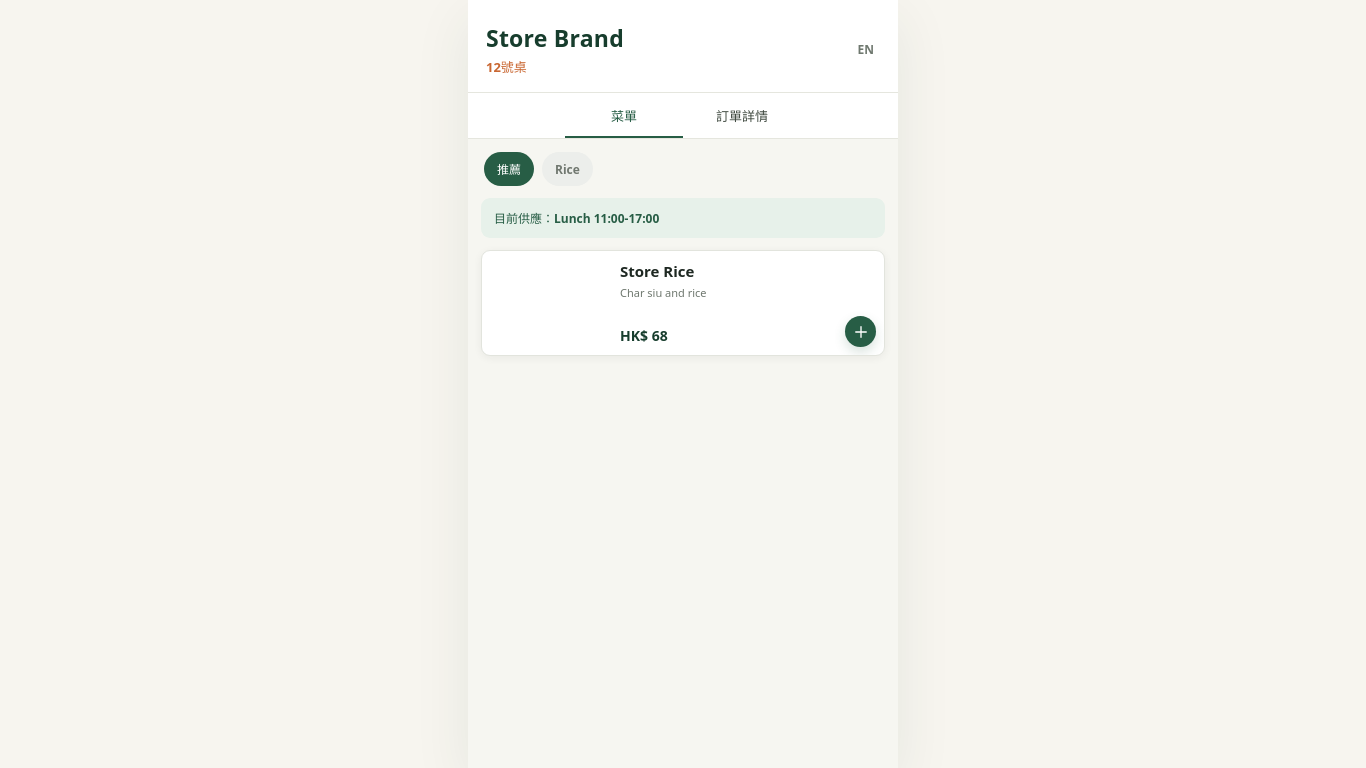
Test: GuestApp store integration › shows confirmation after an async order succeeds
The image size is (1366, 768).
Click the button named "加入Store Rice" at (860, 332), box [845,316,876,347]
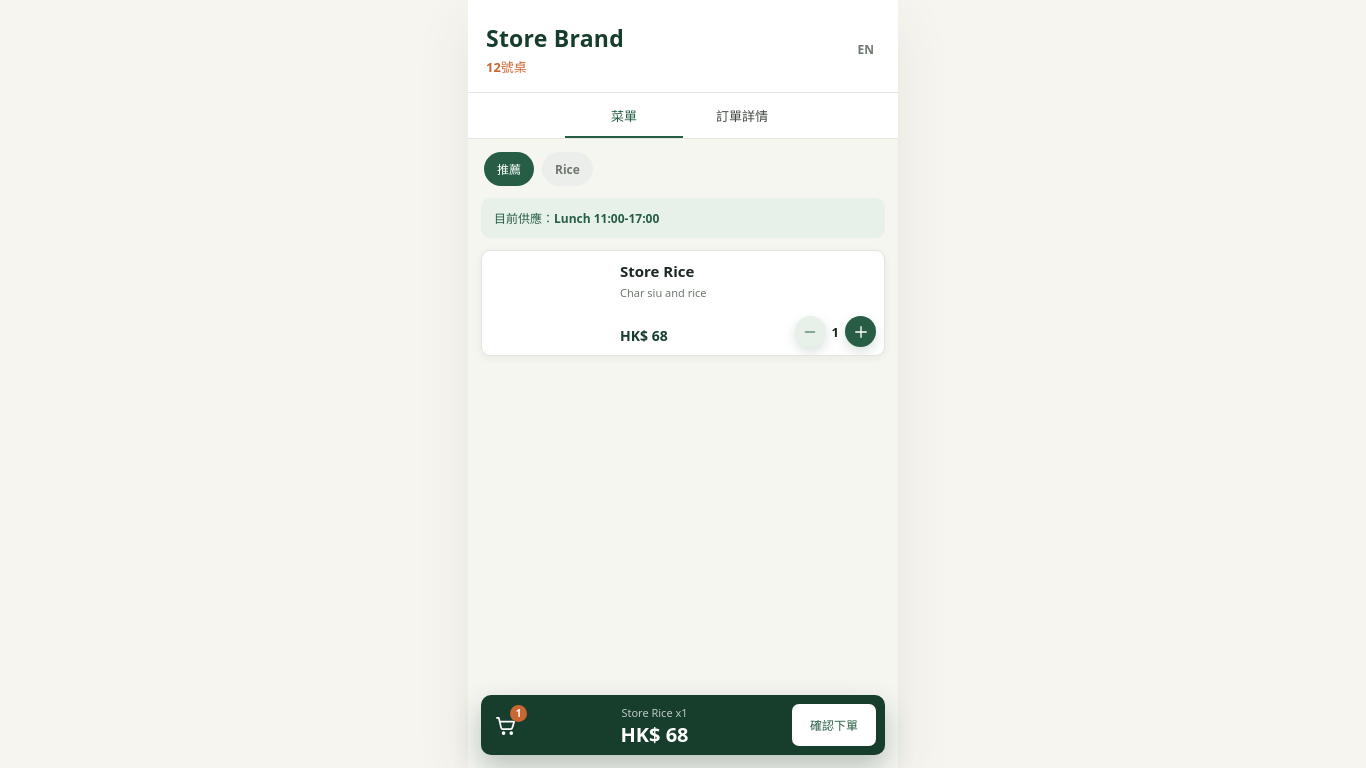
Click the button "1 Store Rice x1 HK$ 68 確認下單" at (683, 725), box [481,695,885,755]
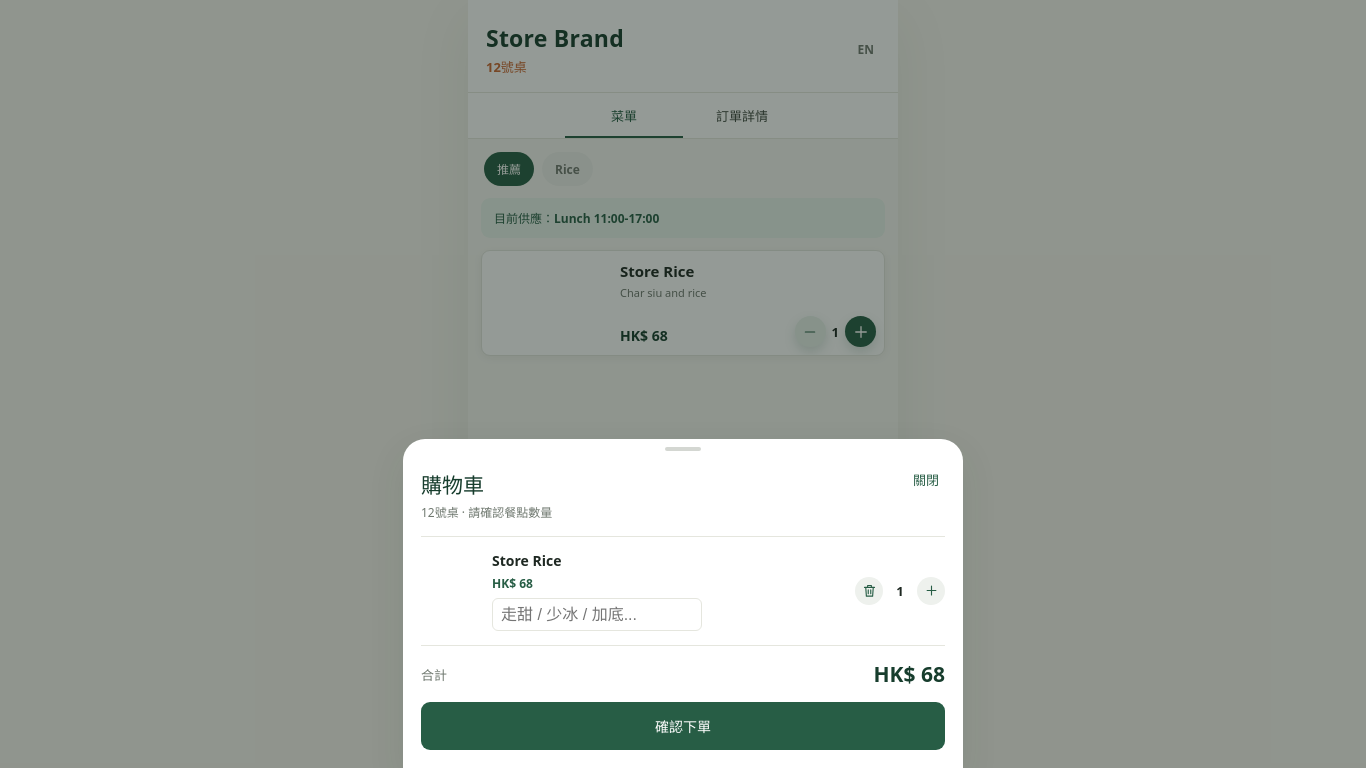
Click the button "確認下單" at (683, 726), box [421,702,945,750]
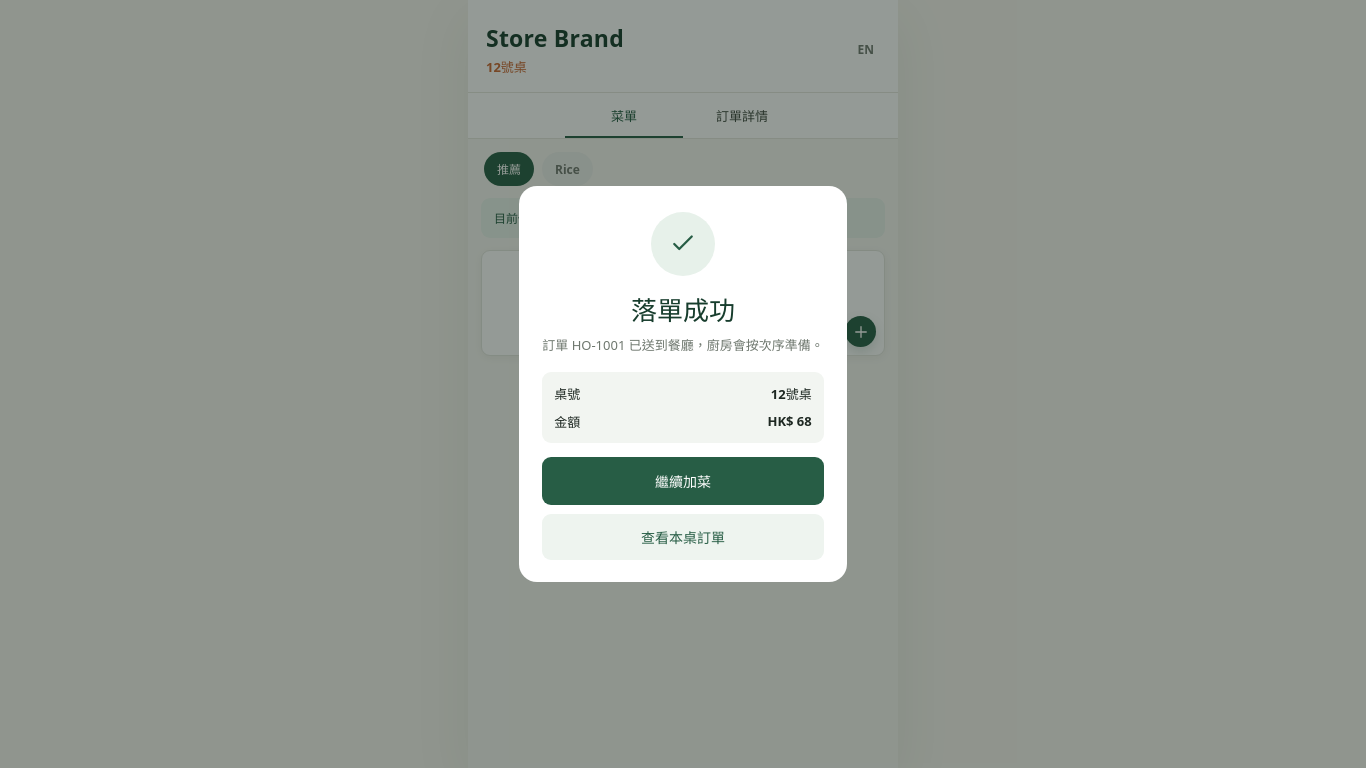
Expected: the heading "落單成功" is shown, [631,297,735,326]
Expected: the button "確認下單" is gone
